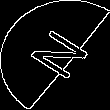N_SE: (18, 24, 92, 86)
